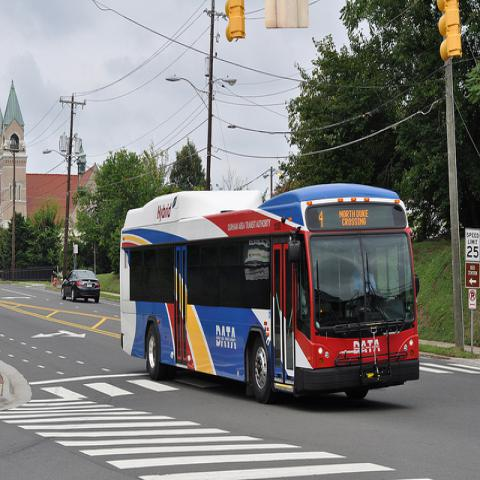bus: (119, 183, 423, 402)
car: (61, 270, 100, 302)
